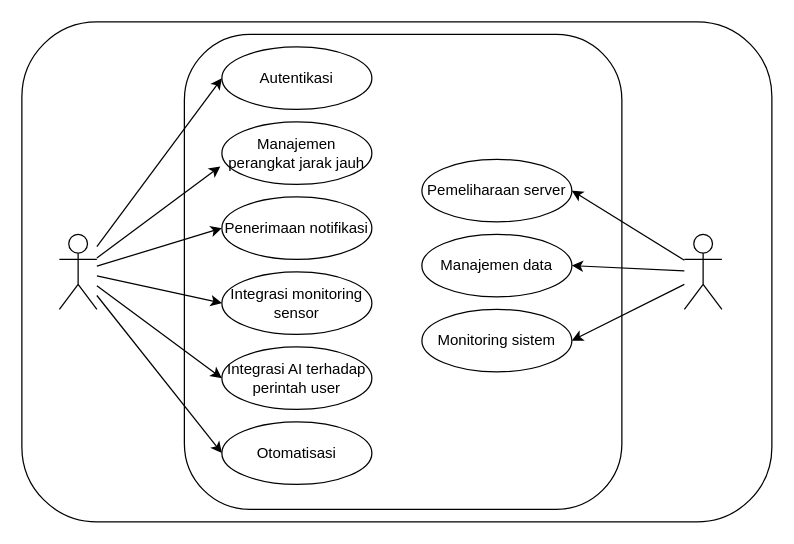
The diagram is 794 pixels wide and 544 high, and some of its shapes have lost their labels. The shapes that lost their labels are listed below. From the top down, each one's centre as x and y in pixels, then its label:
At point 77,271: "User".
At point 702,271: "Administrator".
